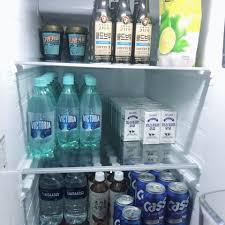beer: (109, 171, 191, 225)
